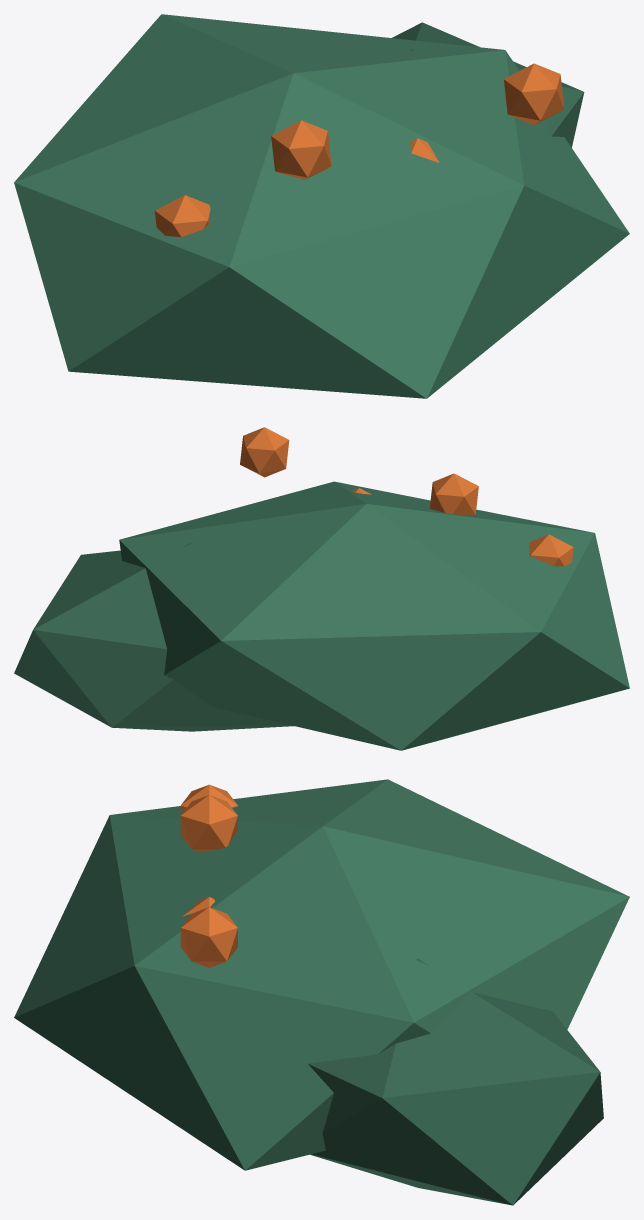
Rendered from net_pile.glb.
3 views of the same model, one above another, from view 1: azimuth 30°, elevation 25°; view 2: azimuth 150°, elevation 25°; view 3: azimuth 270°, elevation 25° (orthographic). The views are drawn at different scales.
Parts seen in each view (by area): view 1: net_pile; view 2: net_pile; view 3: net_pile.
Part boxes in pixels (box(x1,y1,x2,y2)): net_pile: box(14, 14, 629, 398); net_pile: box(14, 427, 629, 750); net_pile: box(14, 779, 629, 1205).
Size of the model in its own units: 2.48 by 1.13 by 2.19.
